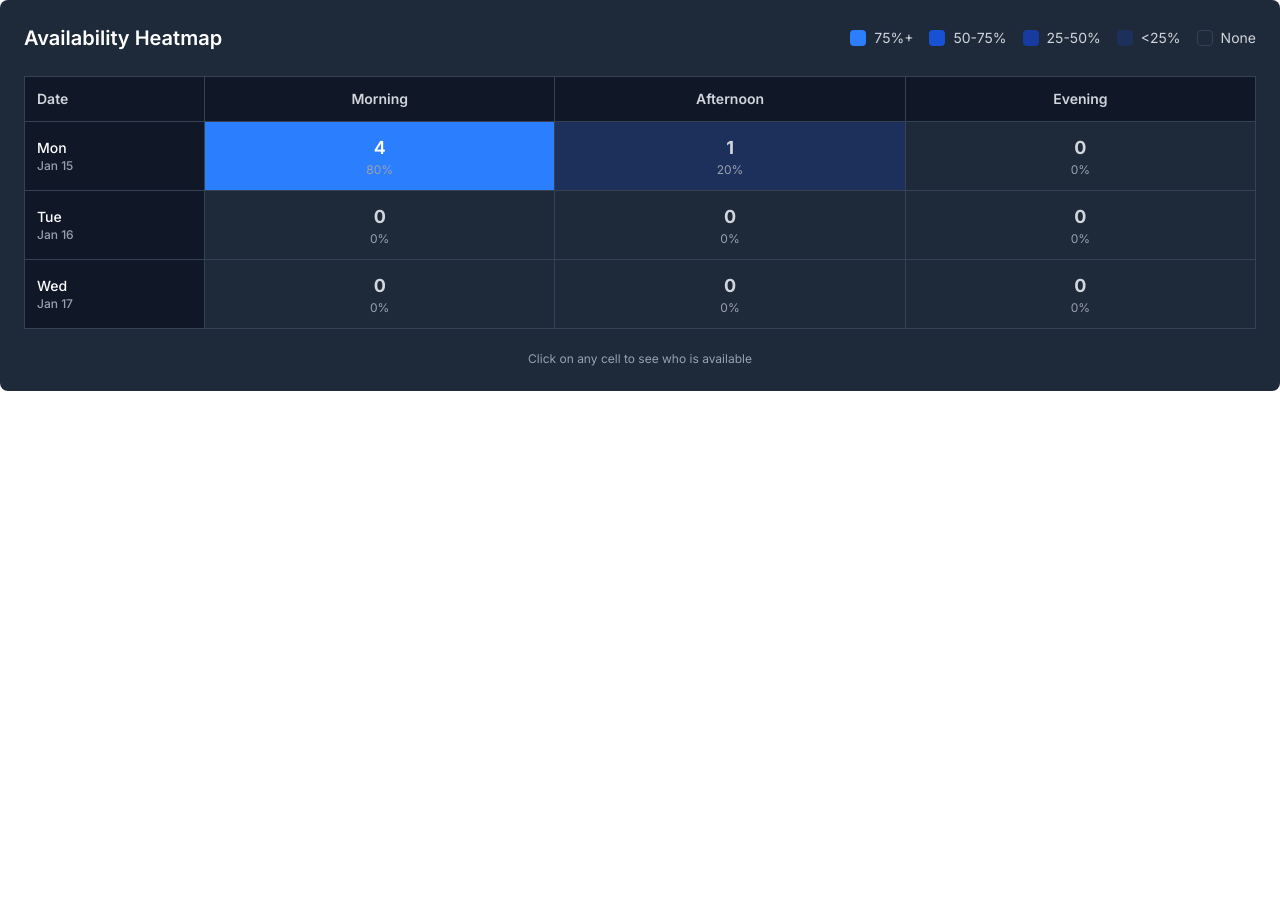
Test: AvailabilityVisualization › Heatmap Finalization (US-028) › HEATMAP-001: Finalization Button Rendering › should show finalize button when cell is clicked with sufficient participation (≥50%)
Click the cell "4 80%".
click(380, 156)  # box [205,122,555,190]
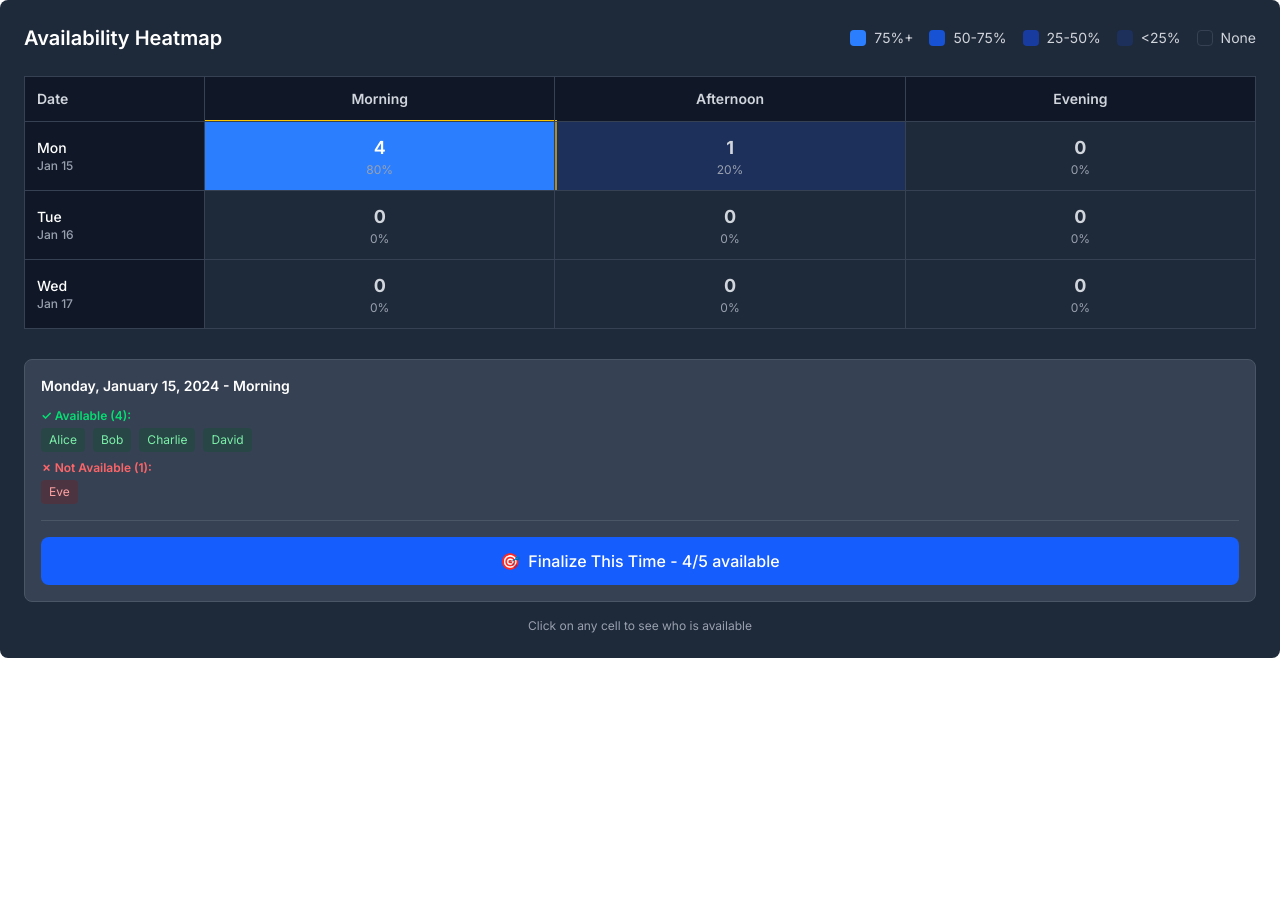
Result: the text "Finalize This Time - 4/5 available" is shown at [528,549,780,573]
Result: the button with aria-label "finalize event for 4 of 5 participants" is enabled at [41,537,1239,585]
